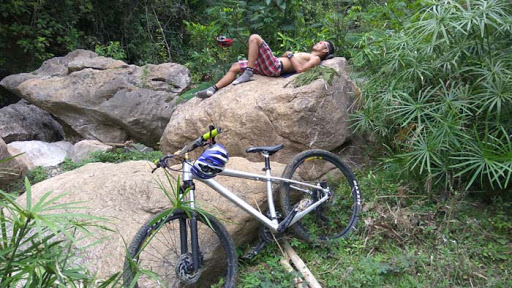bike: (126, 124, 362, 288)
person: (195, 33, 334, 97)
plant: (384, 21, 512, 177)
tree branches: (6, 1, 170, 45)
